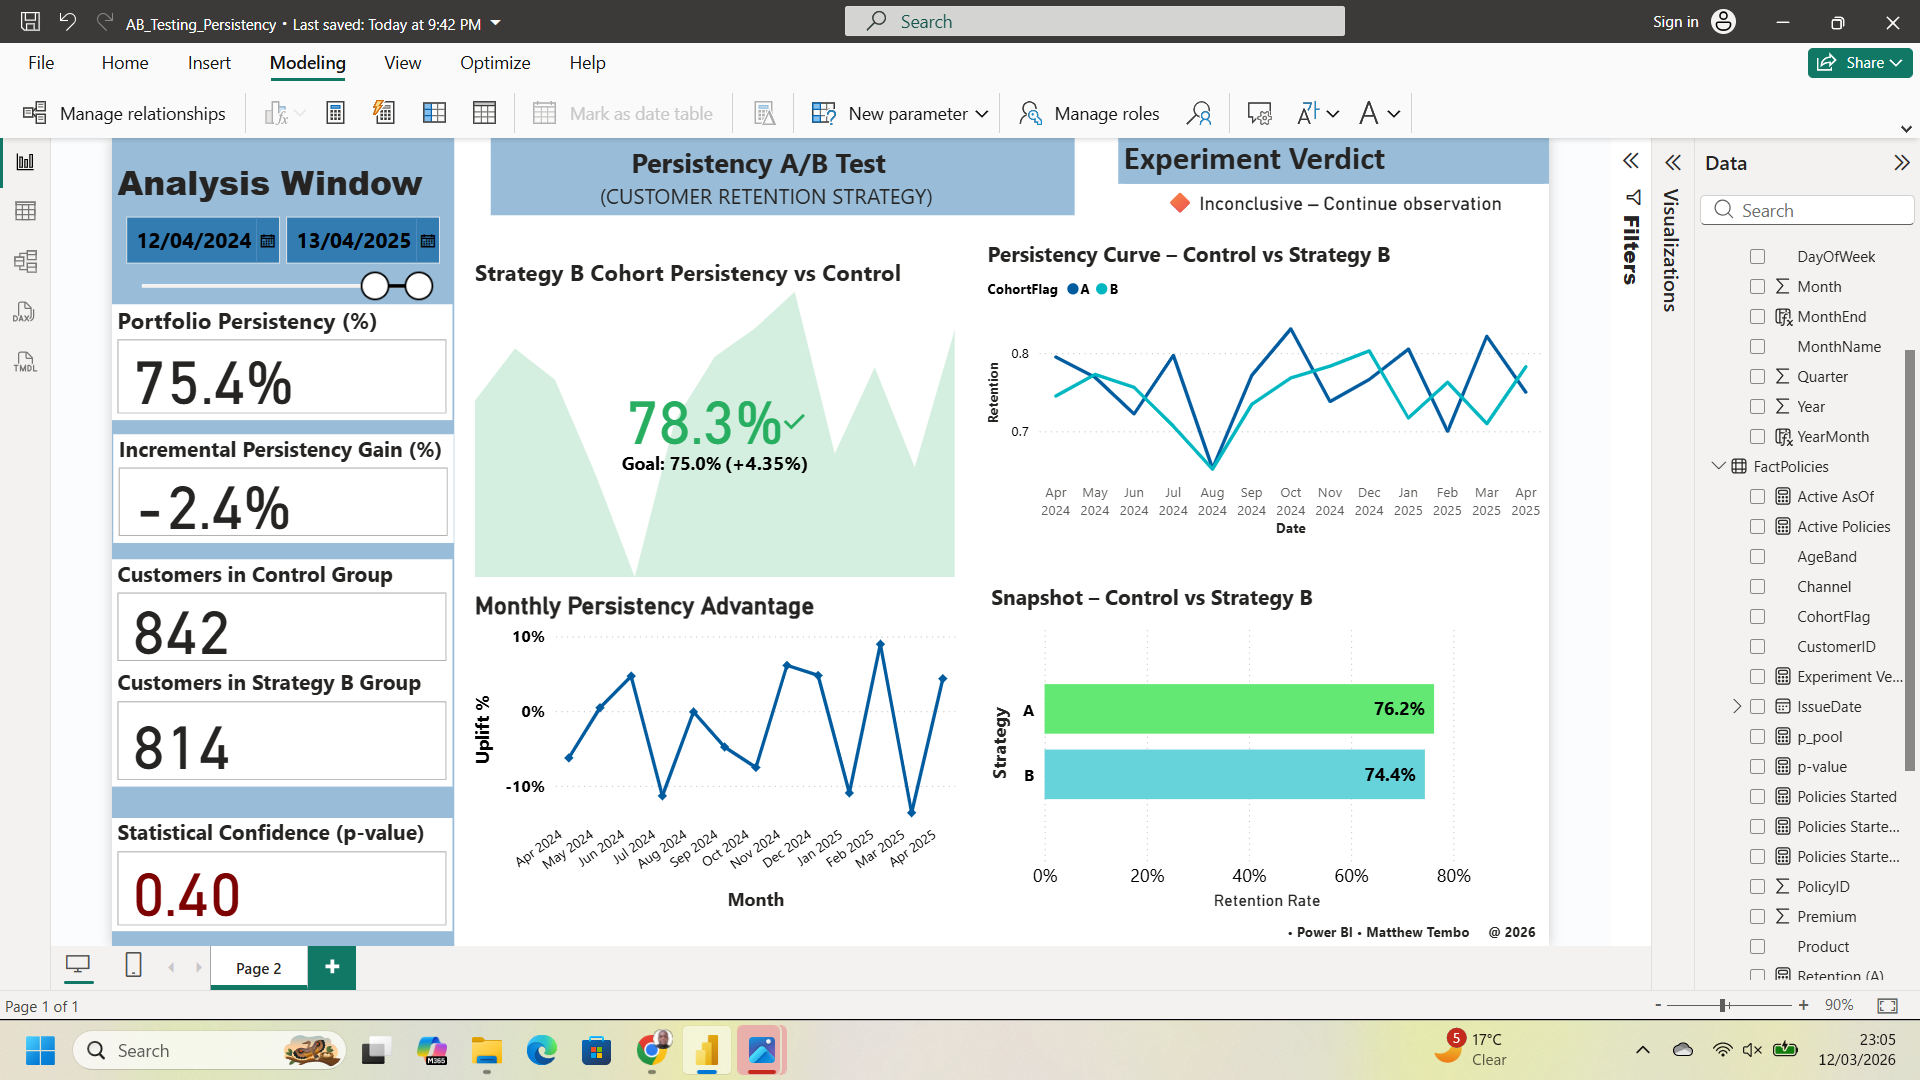

The dashboard page shown, as its layout file describes it:
{"tool":"powerbi","page":{"name":"Page 2","canvas":[1280,720],"ordinal":0},"visuals":[{"type":"textbox","box":[0,0,304.5,720],"z":0},{"type":"slicer","title":"   Analysis Window","fields":{"Values":["DimDate.Date"]},"box":[0,0,307.1,139.4],"z":1000},{"type":"textbox","box":[506.9,0,519.6,69],"z":2000},{"type":"cardVisual","title":" Portfolio Persistency (%)","fields":{"Data":["FactPolicies.Retention Rate"]},"box":[0,157.4,303.2,139.4],"z":3000},{"type":"cardVisual","title":"Incremental Persistency Gain (%)","fields":{"Data":["FactPolicies.Uplift %"]},"box":[0,336.8,303.2,149.7],"z":4000},{"type":"cardVisual","title":"Statistical Confidence (p-value)","fields":{"Data":["FactPolicies.p-value"]},"box":[0,553.5,303.2,156.1],"z":5000},{"type":"clusteredBarChart","title":"Snapshot – Control vs Strategy B","fields":{"Category":["FactPolicies.CohortFlag"],"Y":["FactPolicies.Retention Rate"]},"box":[777.8,396.1,469.9,296.4],"z":6000},{"type":"lineChart","title":"Monthly Persistency Advantage","fields":{"Category":["DimDate.YearMonth"],"Y":["FactPolicies.Uplift AsOf %"]},"box":[304.5,420.6,437.4,289],"z":7000},{"type":"lineChart","title":" Persistency Curve – Control vs Strategy B","fields":{"Category":["DimDate.YearMonth"],"Y":["FactPolicies.Retention AsOf"],"Series":["FactPolicies.CohortFlag"]},"box":[774.2,105.8,505.8,286.5],"z":8000},{"type":"kpi","title":"Strategy B Cohort Persistency vs Control","fields":{"Indicator":["FactPolicies.Retention AsOf (B)"],"TrendLine":["DimDate.YearMonth"],"Goal":["FactPolicies.Retention AsOf (A)"]},"box":[318.7,105.8,437.4,290.3],"z":9000},{"type":"textbox","box":[1042.4,692.5,237.1,27.5],"z":10000}]}

Visuals, with their boxes on the page's 1280x720 design canvas (x1, y1, x2, y2). These are canvas units, not pixel positions in the 1920x1080 screenshot, which may show the page scaled, cropped or inside an application window:
textbox: detection(0, 0, 304, 720)
"   Analysis Window" slicer: detection(0, 0, 307, 139)
textbox: detection(507, 0, 1026, 69)
" Portfolio Persistency (%)" cardVisual: detection(0, 157, 303, 297)
"Incremental Persistency Gain (%)" cardVisual: detection(0, 337, 303, 486)
"Statistical Confidence (p-value)" cardVisual: detection(0, 554, 303, 710)
"Snapshot – Control vs Strategy B" clusteredBarChart: detection(778, 396, 1248, 692)
"Monthly Persistency Advantage" lineChart: detection(304, 421, 742, 710)
" Persistency Curve – Control vs Strategy B" lineChart: detection(774, 106, 1280, 392)
"Strategy B Cohort Persistency vs Control" kpi: detection(319, 106, 756, 396)
textbox: detection(1042, 692, 1280, 720)
